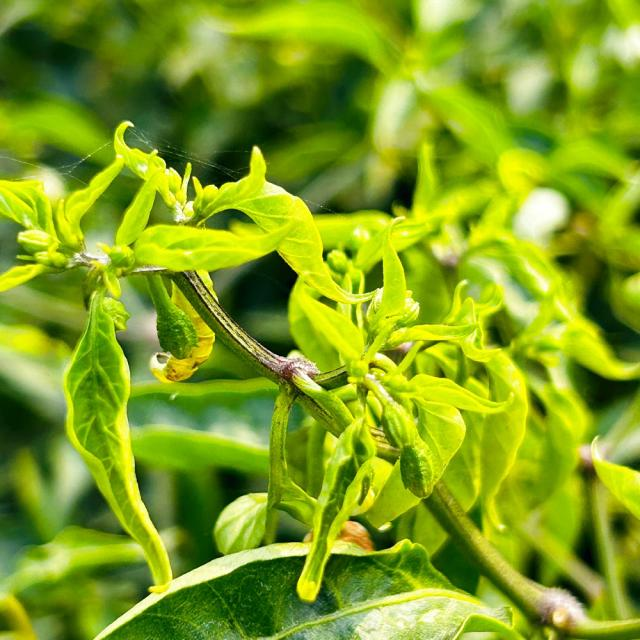Chilli_Leaf_Curl: (1, 2, 638, 638), (1, 118, 376, 592), (268, 213, 525, 602), (92, 536, 519, 638), (127, 143, 376, 308), (61, 284, 173, 592), (147, 277, 216, 383)
